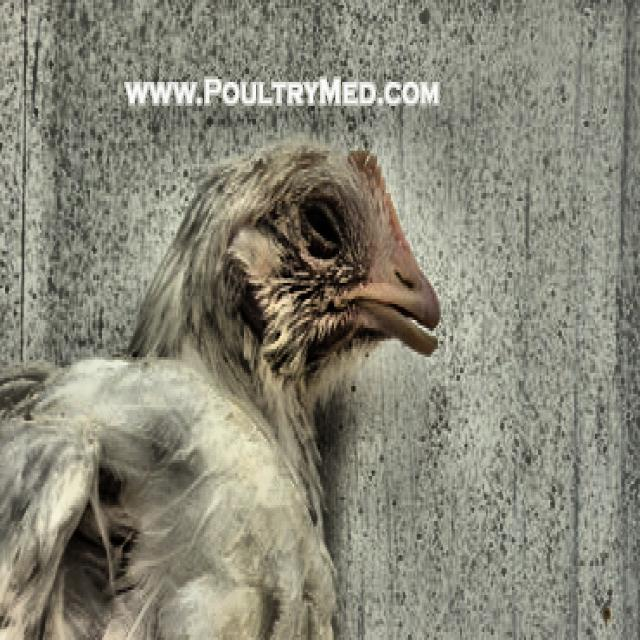Infectios bronchitis: (217, 144, 433, 393)
